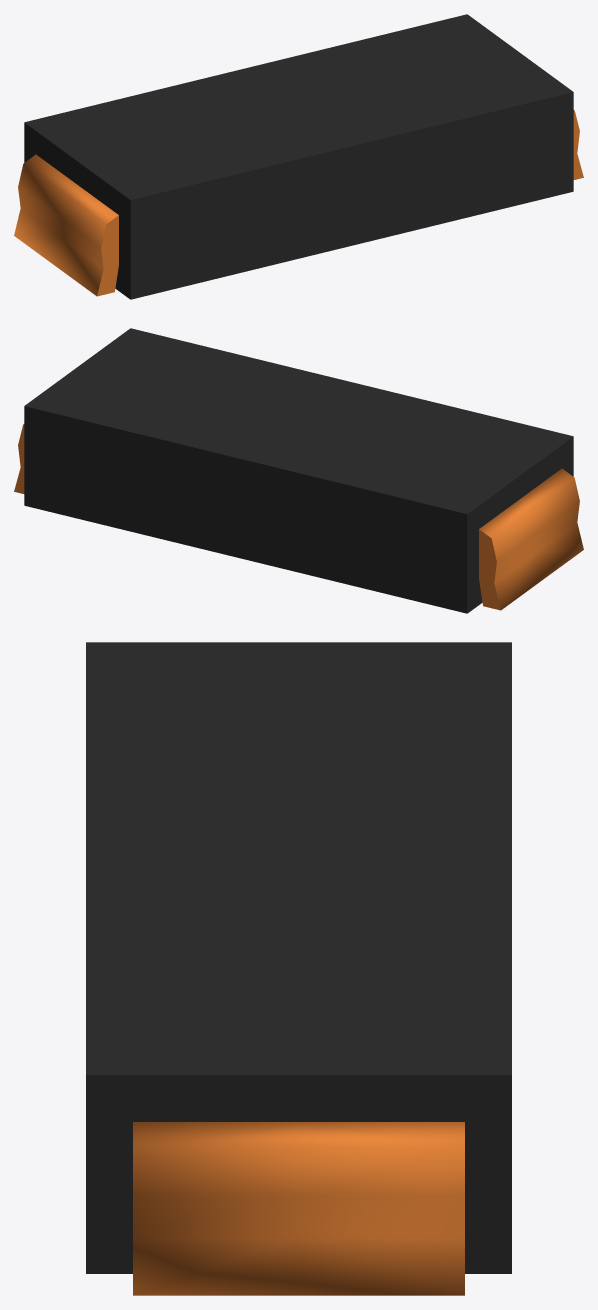
Rendered from Chip_3.fbx.
3 renders of one model, top to bottom at view 1: azimuth 30°, elevation 25°; view 2: azimuth 150°, elevation 25°; view 3: azimuth 270°, elevation 25°, orthographic. The views are drawn at different scales.
Visible parts, largest first — view 1: Chip_3; view 2: Chip_3; view 3: Chip_3.
Boxes of the visible parts, x1=… form: Chip_3: x1=14, y1=14, x2=583, y2=299; Chip_3: x1=14, y1=328, x2=583, y2=613; Chip_3: x1=86, y1=642, x2=511, y2=1295.
Bounding box in the file's own units: 196 × 38.36 × 74.32.
